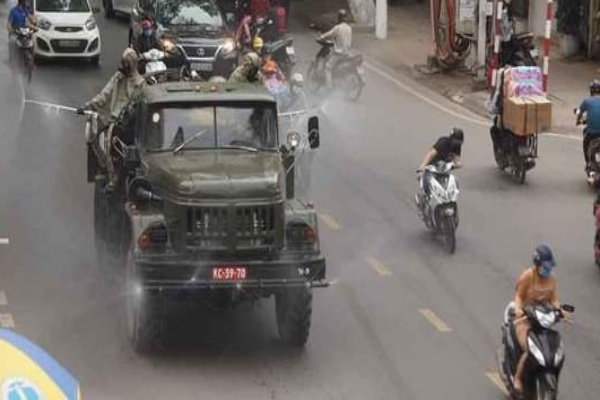plate: (209, 265, 249, 282), (189, 60, 215, 76), (57, 39, 81, 50)
